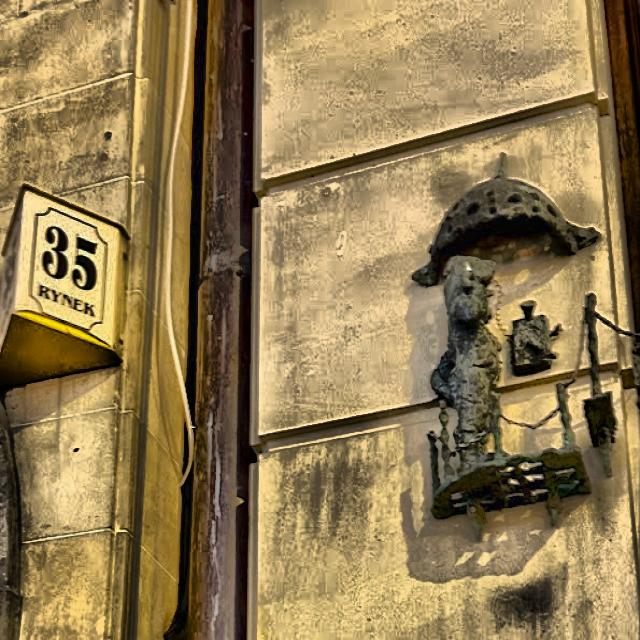Dryndek: (411, 153, 616, 540)
